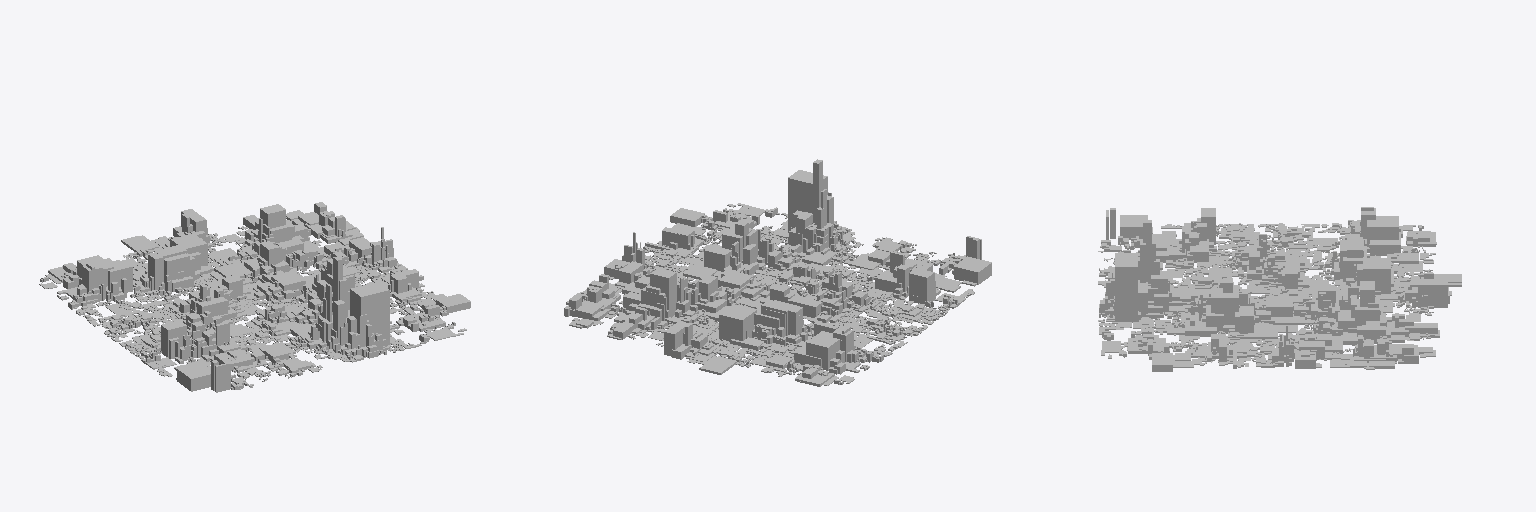
Rendered from city4.obj.
3 renders of one model, left to right at view 1: azimuth 30°, elevation 25°; view 2: azimuth 150°, elevation 25°; view 3: azimuth 270°, elevation 25°, orthographic.
Bounding box in the file's own units: 26.14 × 6.98 × 27.31.